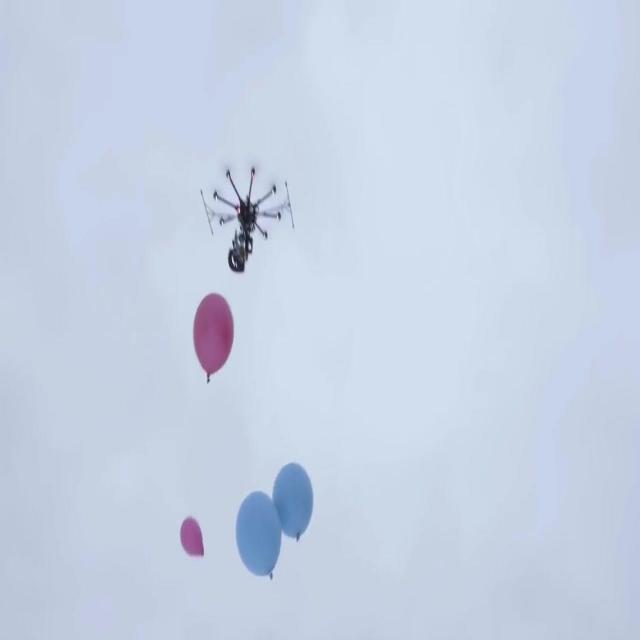UAV: (200, 165, 294, 240)
